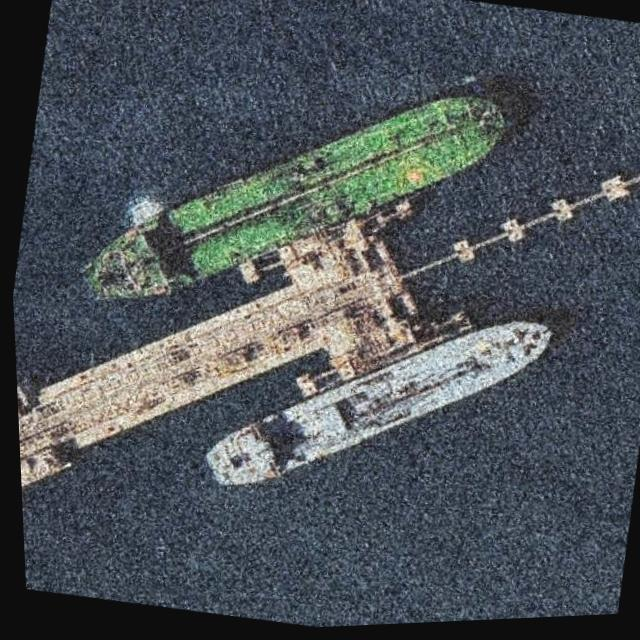ship2: (81, 97, 509, 301), (202, 322, 550, 486)
